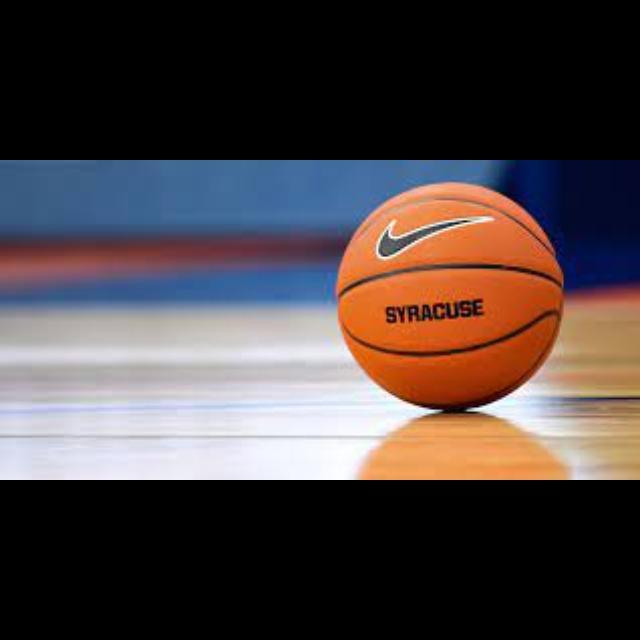basketball: (338, 184, 562, 406)
